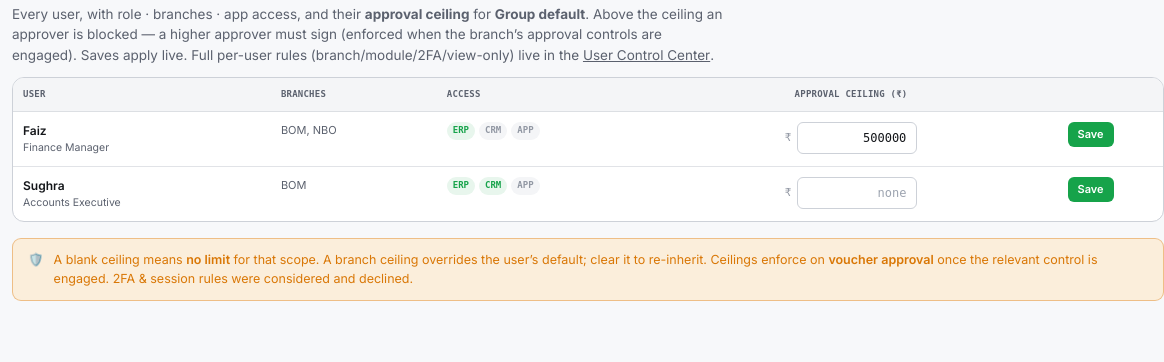
Test case: UserConfig › rejects a negative ceiling before saving
Replace the text in the number field named "Faiz approval ceiling" with "-1" at (857, 138), box [797,122,917,154]
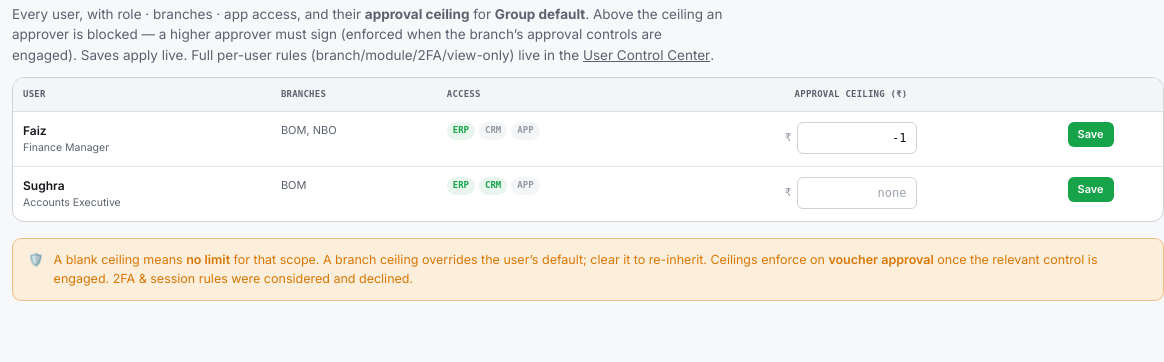
Click the button "Save" in the row of "Faiz".
click(1091, 135)  # box [1068,122,1114,147]
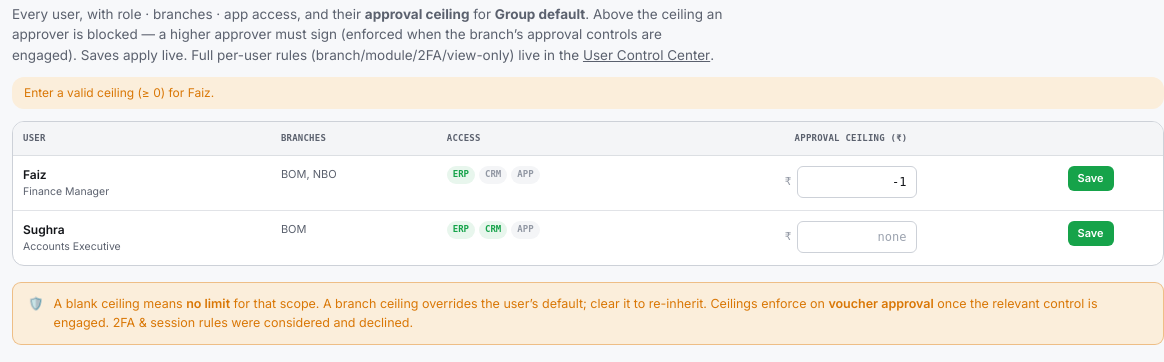
Expected: the message shows "valid ceiling", [24,85,214,100]
